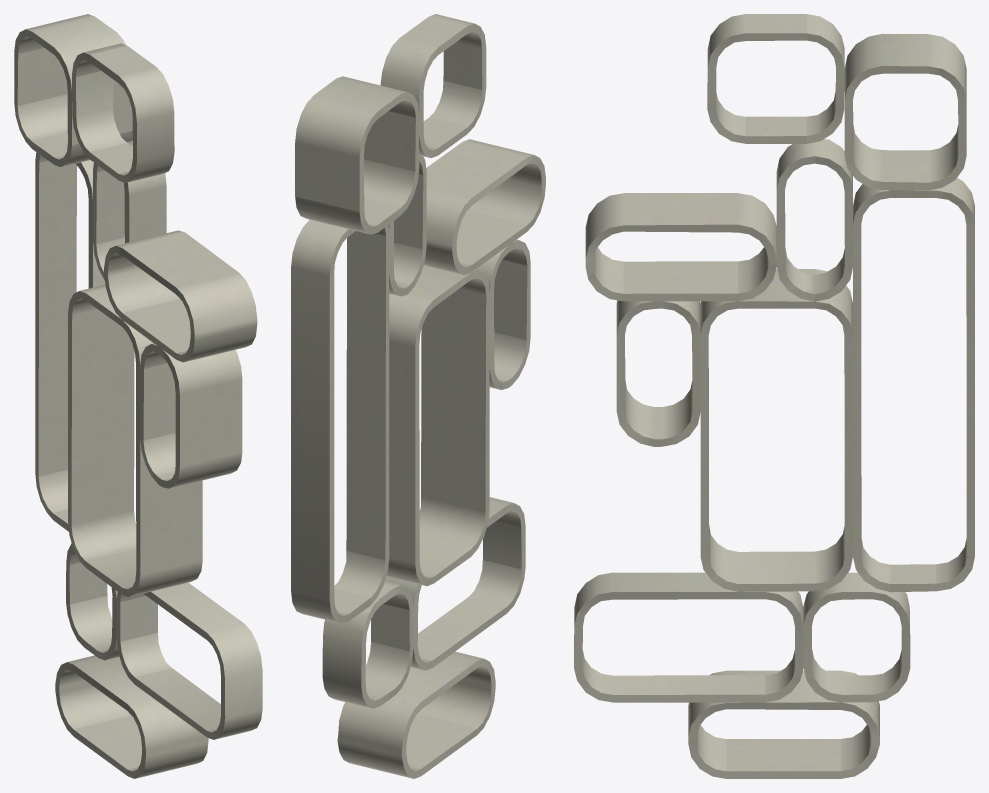
The model's file is nt_2020_wall_shelves_01_LOD1.obj.
The picture shows the model from 3 angles, left to right: view 1: azimuth 30°, elevation 25°; view 2: azimuth 150°, elevation 25°; view 3: azimuth 270°, elevation 25°; orthographic projection. The views are drawn at different scales.
Visible parts, largest first — view 1: nt_2020_plastic_cream; view 2: nt_2020_plastic_cream; view 3: nt_2020_plastic_cream.
Boxes of the visible parts, <box> form: nt_2020_plastic_cream: <box>14,14,262,778</box>; nt_2020_plastic_cream: <box>291,14,545,778</box>; nt_2020_plastic_cream: <box>574,14,974,778</box>.
Size of the model in its own units: 51.44 by 539 by 267.
